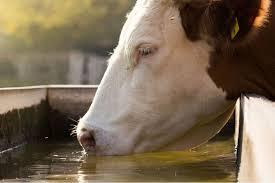cow: (77, 0, 275, 157)
